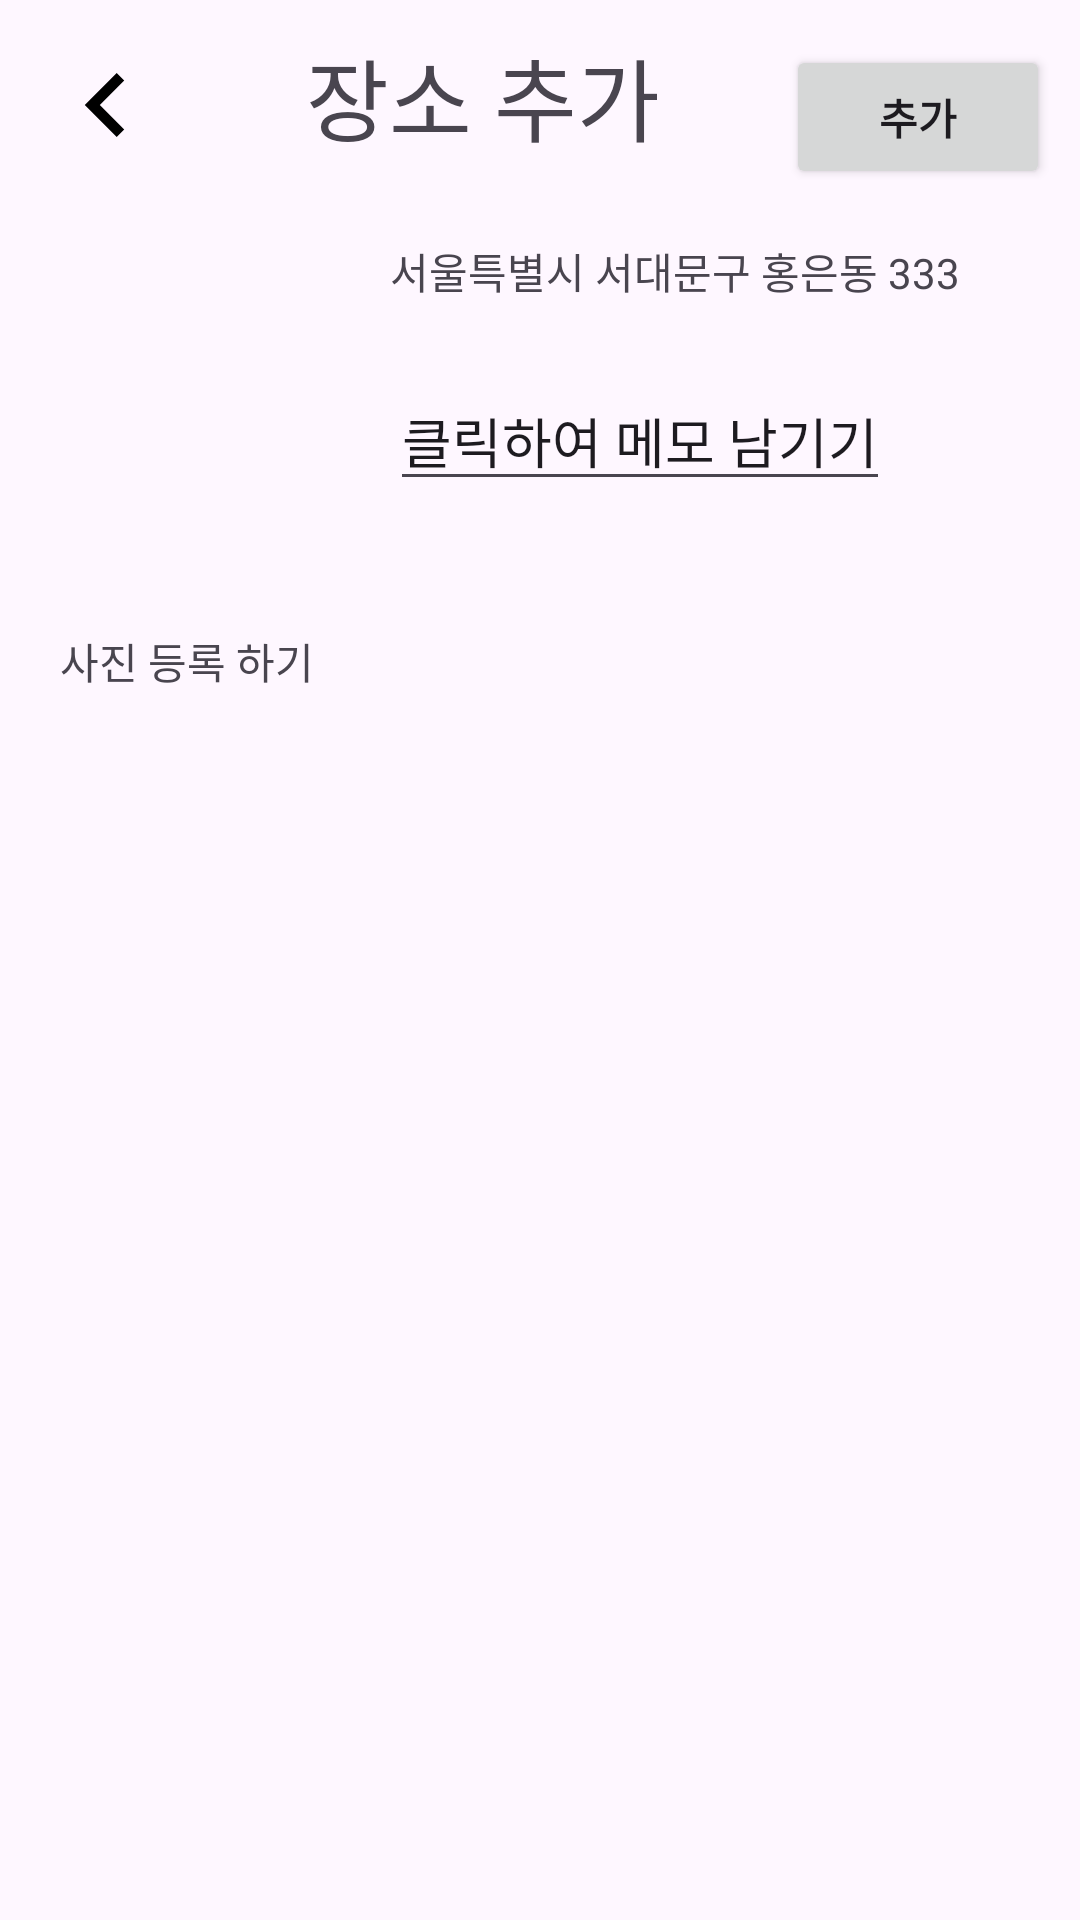

Where to tap for icons on this 1080px×1920px app screen, as (x=x, y=y):
gobeforeicon: (x=104, y=105)
